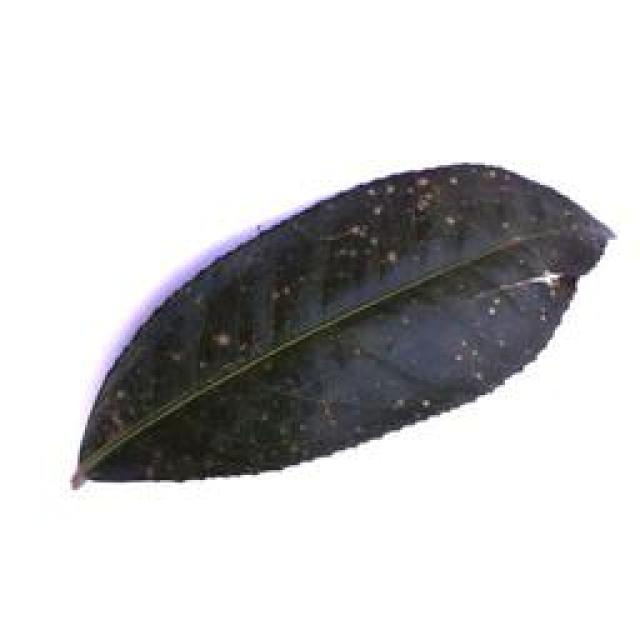Algal Leaf Spot: (66, 162, 607, 497)
